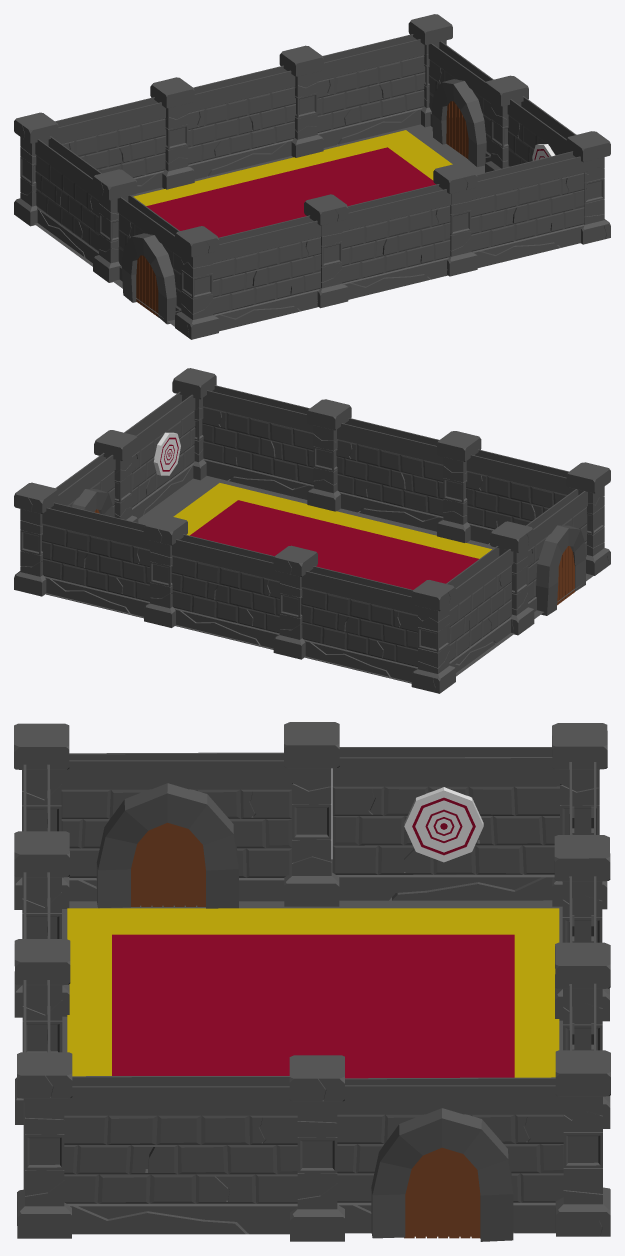
File: room4.fbx
3 renders of one model, top to bottom at view 1: azimuth 30°, elevation 25°; view 2: azimuth 150°, elevation 25°; view 3: azimuth 270°, elevation 25°, orthographic. The views are drawn at different scales.
Parts seen in each view (by area): view 1: wall.018, wall.017, Plane.003, pillar.024, pillar.023, gate--NORMALS-OK.005, gate--NORMALS-OK.006, wall.016, pillar.026, pillar.022, wall.019, pillar.021 (+1 smaller); view 2: wall.017, wall.018, Plane.003, pillar.023, pillar.024, wall.016, gate--NORMALS-OK.005, wall.019, pillar.021, pillar.022, gate--NORMALS-OK.006, pillar.025 (+2 smaller); view 3: Plane.003, wall.019, gate--NORMALS-OK.006, gate--NORMALS-OK.005, wall.016, pillar.023, pillar.024, pillar.026, pillar.025, pillar.022, pillar.021, target.001 (+2 smaller).
Part boxes in pixels (x1,y1,x2,y2): wall.018: (212,151,588,331); wall.017: (54,34,425,193); Plane.003: (34,124,558,326); pillar.024: (175,162,477,339); pillar.023: (150,14,452,189); gate--NORMALS-OK.005: (117,195,181,324); gate--NORMALS-OK.006: (428,41,493,166); wall.016: (35,136,101,262); pillar.026: (566,131,610,244); pillar.022: (92,169,137,282); wall.019: (507,96,576,166); pillar.021: (14,112,58,226); wall.017: (41,502,417,683); wall.018: (202,385,572,544); Plane.003: (45,476,593,682); pillar.023: (14,482,317,659); pillar.024: (307,399,610,575); wall.016: (446,546,513,672); gate--NORMALS-OK.005: (526,489,587,615); wall.019: (124,392,195,518); pillar.021: (411,580,455,693); pillar.022: (490,521,534,635); gate--NORMALS-OK.006: (55,453,115,516); pillar.025: (94,430,138,522); Plane.003: (62,897,562,1078); wall.019: (63,1076,297,1234); gate--NORMALS-OK.006: (336,1077,563,1241); gate--NORMALS-OK.005: (61,752,291,908); wall.016: (332,747,559,900); pillar.023: (554,835,610,1236); pillar.024: (14,723,70,1124); pillar.026: (17,1052,72,1238); pillar.025: (289,1055,344,1241); pillar.022: (284,722,339,906); pillar.021: (552,723,607,909); target.001: (404,787,483,862).
Bounding box in the file's own units: 1600 × 358 × 1142.
